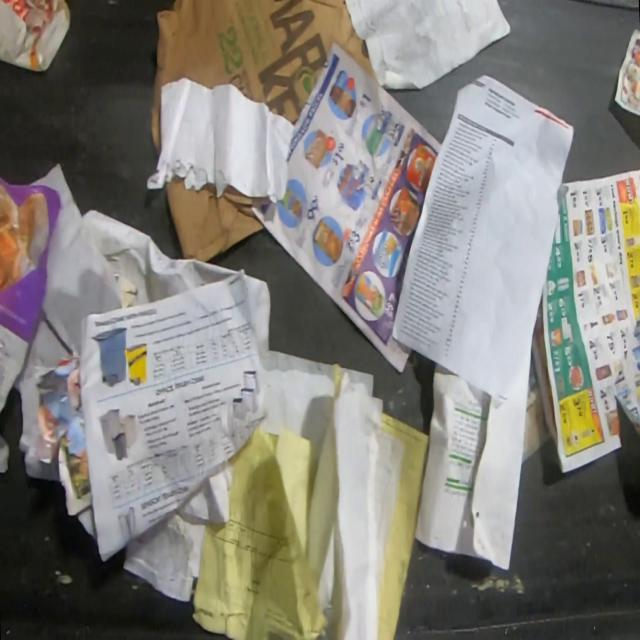cardboard: (150, 0, 380, 156), (164, 175, 270, 264), (0, 0, 72, 73)
